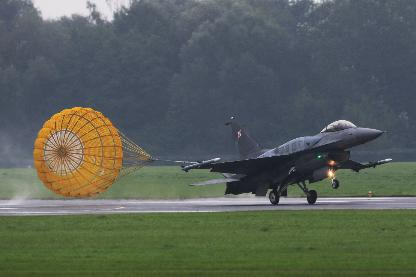F14: (180, 116, 392, 203)
